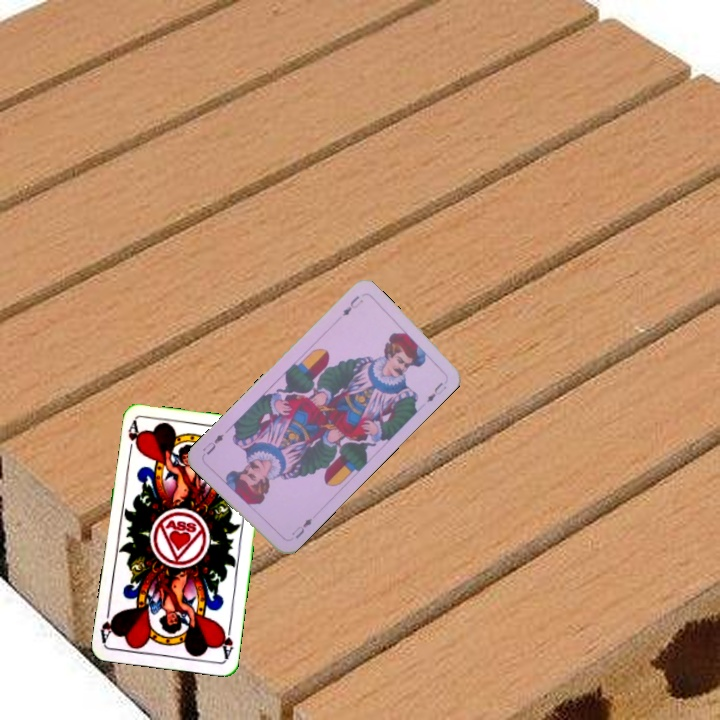EU: (338, 291, 366, 319), (287, 514, 314, 541)
HA: (216, 620, 236, 661), (124, 417, 142, 458)
